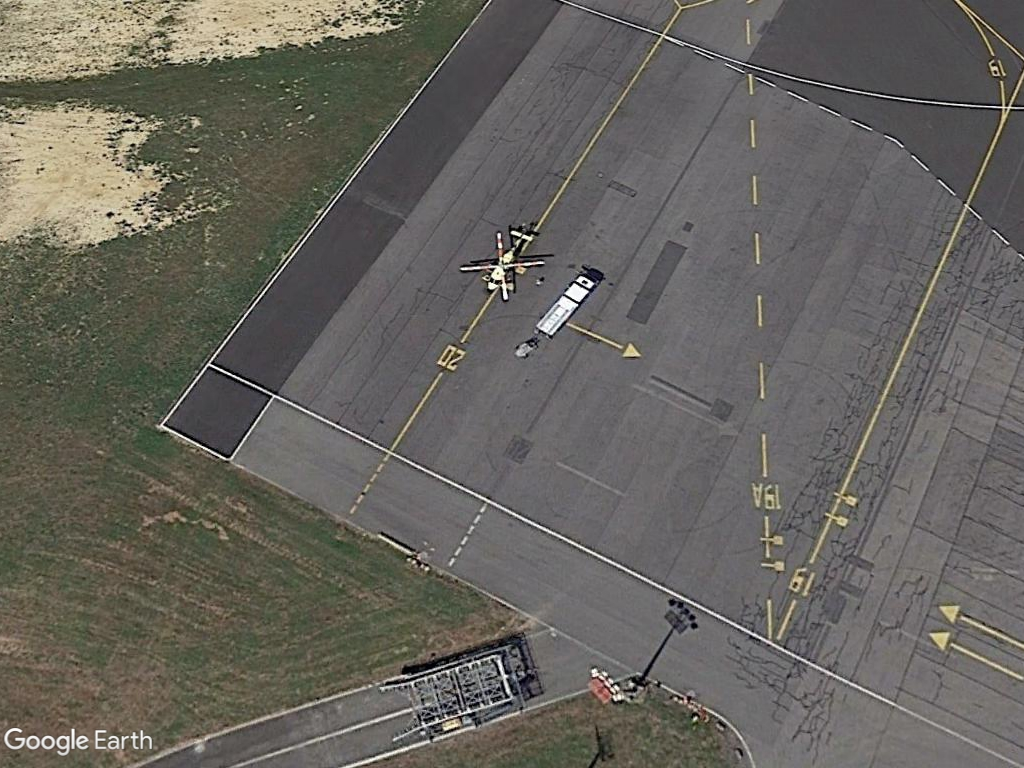helicopter: (463, 220, 547, 302)
truck: (533, 271, 604, 339)
